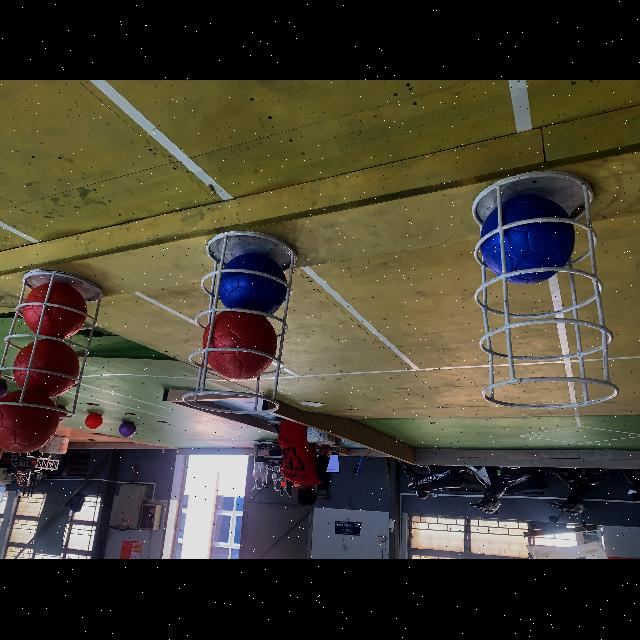B: (481, 192, 574, 284), (216, 254, 290, 314)
R: (200, 312, 274, 380), (22, 280, 90, 338), (13, 342, 83, 396), (1, 392, 62, 452)
